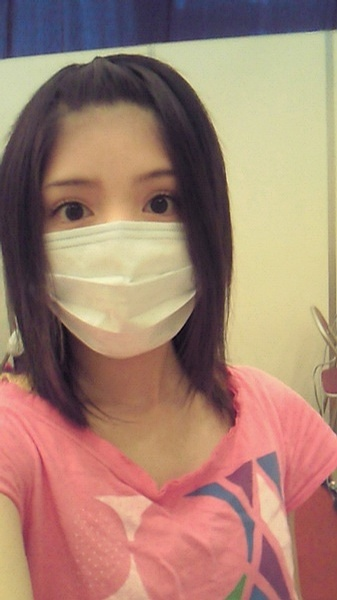face_mask: (38, 105, 196, 347)
